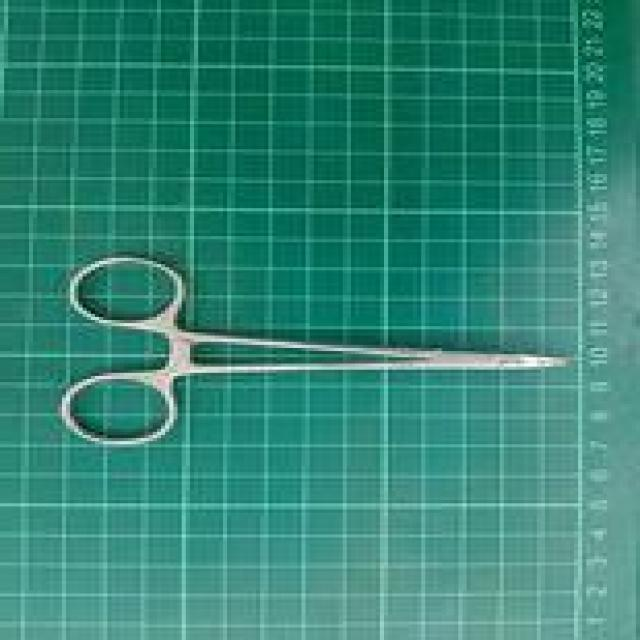Hemostat: (53, 248, 574, 451)
